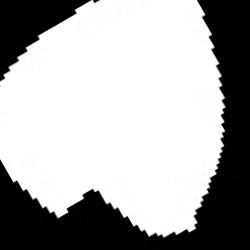spot: (2, 2, 224, 236)
